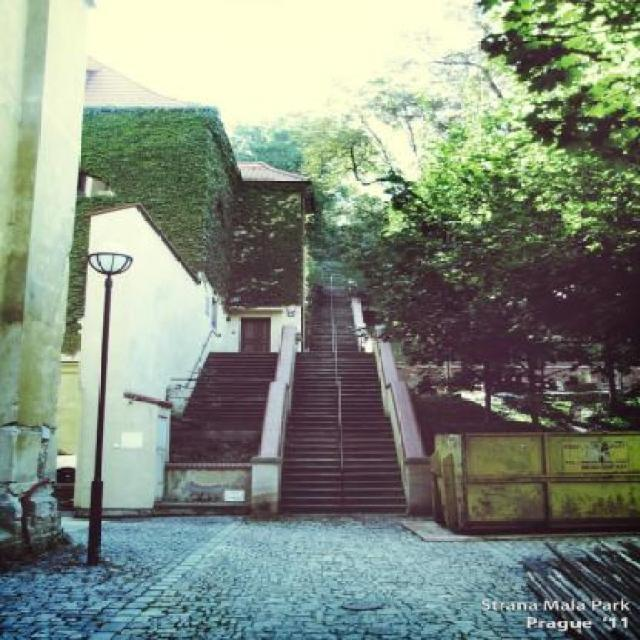stair: (278, 284, 408, 518), (182, 351, 276, 418)
